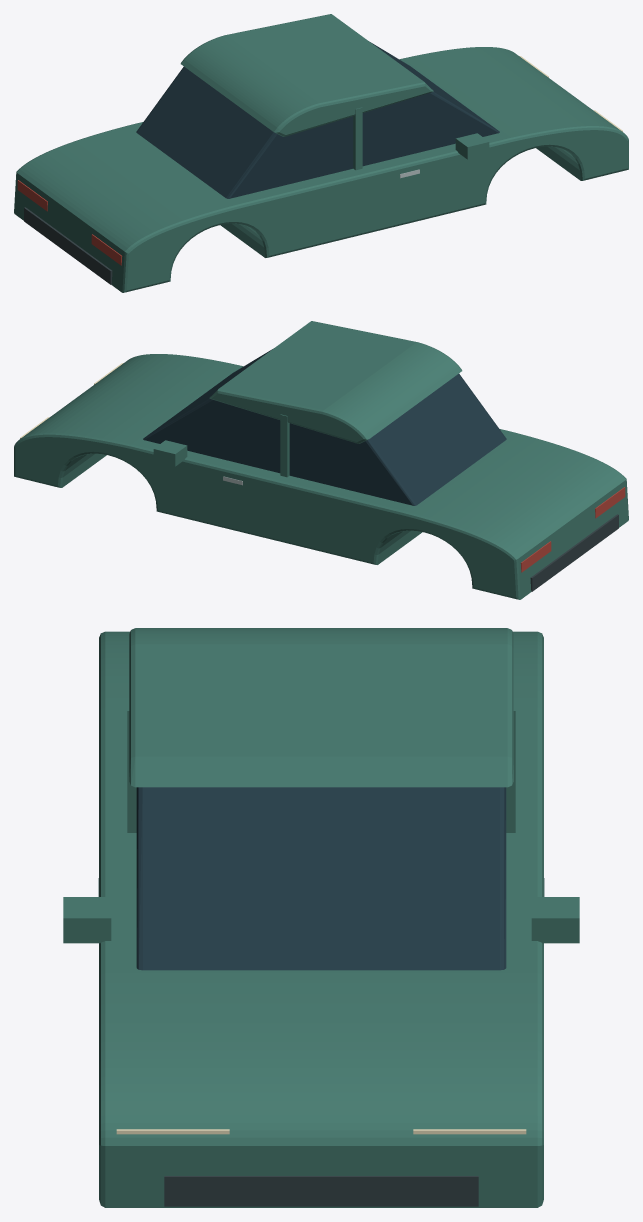
The model's file is car-body.glb.
The picture shows the model from 3 angles, top to bottom: view 1: azimuth 30°, elevation 25°; view 2: azimuth 150°, elevation 25°; view 3: azimuth 270°, elevation 25°; orthographic projection. The views are drawn at different scales.
Parts seen in each view (by area): view 1: Sculpted body with four wheel openings, Glazed cabin, Painted roof panel, Rear bumper, Mirror, B pillar; view 2: Sculpted body with four wheel openings, Glazed cabin, Painted roof panel, Rear bumper, Mirror, B pillar; view 3: Sculpted body with four wheel openings, Glazed cabin, Painted roof panel, Lower front intake, Mirror (×2).
Boxes of the visible parts, x1,y1,x2,y2 form: Sculpted body with four wheel openings: (14, 47, 628, 292); Glazed cabin: (136, 42, 499, 198); Painted roof panel: (180, 14, 433, 136); Rear bumper: (24, 207, 112, 284); Mirror: (455, 133, 489, 159); B pillar: (353, 107, 362, 170); Sculpted body with four wheel openings: (14, 354, 628, 599); Glazed cabin: (143, 349, 506, 505); Painted roof panel: (209, 321, 462, 443); Rear bumper: (530, 514, 618, 591); Mirror: (153, 440, 187, 466); B pillar: (280, 414, 289, 477); Sculpted body with four wheel openings: (99, 631, 543, 1207); Glazed cabin: (136, 787, 506, 970); Painted roof panel: (129, 628, 513, 787); Lower front intake: (164, 1176, 478, 1206); Mirror (×2): (63, 897, 579, 943).
Size of the model in its own units: 4.67 by 1.18 by 2.05.
